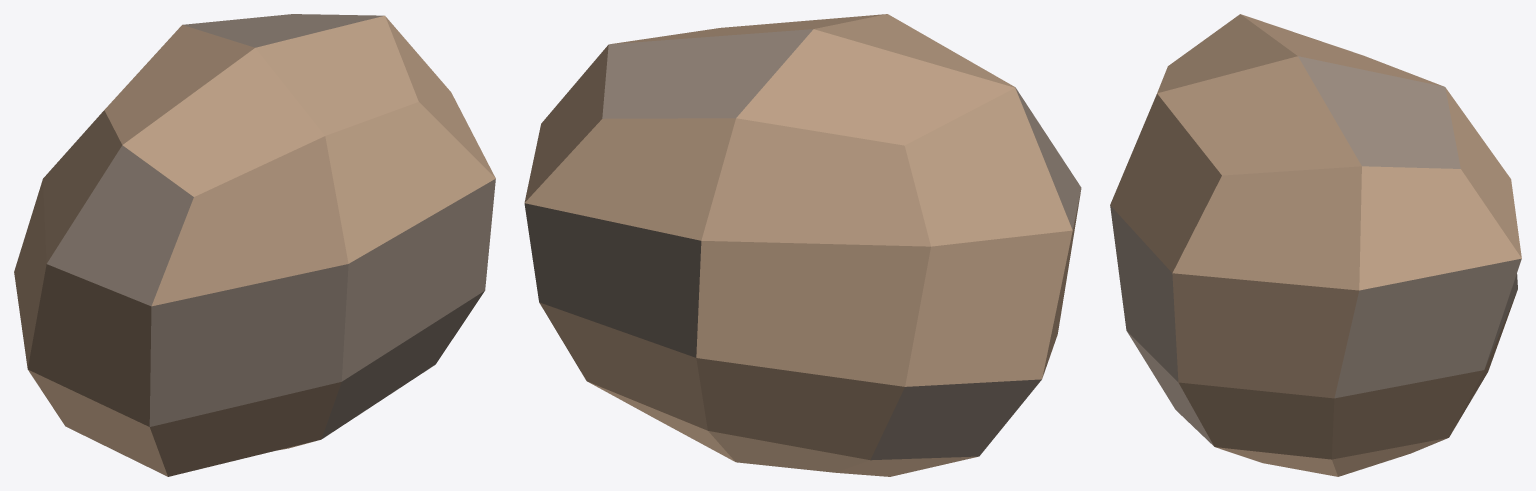
Rendered from Asteroid_3.fbx.
The picture shows the model from 3 angles, left to right: view 1: azimuth 30°, elevation 25°; view 2: azimuth 150°, elevation 25°; view 3: azimuth 270°, elevation 25°; orthographic projection. The views are drawn at different scales.
Visible parts, largest first — view 1: Asteroid_3; view 2: Asteroid_3; view 3: Asteroid_3.
Part boxes in pixels (<box>): Asteroid_3: <box>14,14,495,476</box>; Asteroid_3: <box>524,14,1081,476</box>; Asteroid_3: <box>1110,14,1521,476</box>.
Size of the model in its own units: 3.52 by 2.89 by 2.75.
